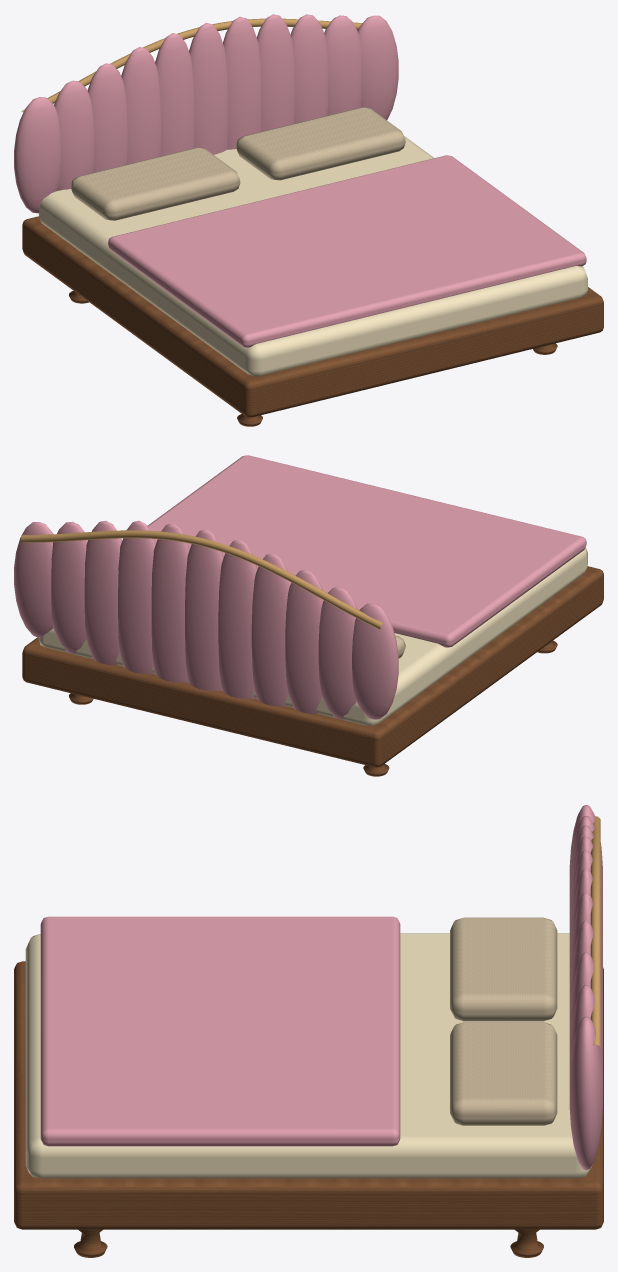
The model's file is bed_king_arcade-0a0490b655a0.glb.
3 views of the same model, one above another, from view 1: azimuth 30°, elevation 25°; view 2: azimuth 150°, elevation 25°; view 3: azimuth 270°, elevation 25° (orthographic). The views are drawn at different scales.
Visible parts, largest first — view 1: surface_rose, surface_walnut, surface_ivory, surface_linen, surface_brass; view 2: surface_rose, surface_walnut, surface_ivory, surface_brass; view 3: surface_rose, surface_ivory, surface_walnut, surface_linen, surface_brass.
Boxes of the visible parts, x1,y1,x2,y2 form: surface_rose: (14,14,586,347); surface_walnut: (22,216,603,426); surface_ivory: (38,136,587,376); surface_linen: (70,107,405,220); surface_brass: (21,18,362,112); surface_rose: (14,455,586,719); surface_walnut: (22,566,603,776); surface_ivory: (38,547,587,725); surface_brass: (21,530,383,629); surface_rose: (40,805,602,1169); surface_ivory: (25,933,592,1178); surface_walnut: (14,961,603,1257); surface_linen: (450,917,557,1125); surface_brass: (590,816,600,1046).
Bounding box in the file's own units: 1.97 × 1.1 × 2.03.
Materials: 5 (2 with a texture image).
